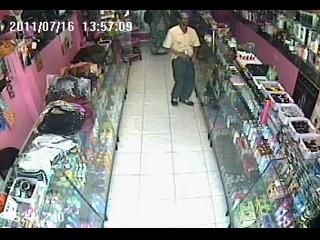Normal: (162, 12, 202, 107)
